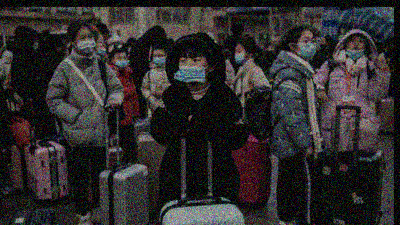mask_weared_incorrect: (346, 36, 364, 57), (94, 36, 107, 56)
with_mask: (177, 55, 209, 83), (74, 31, 95, 53), (296, 35, 316, 58), (233, 46, 246, 66), (151, 52, 165, 67), (115, 54, 127, 68)
